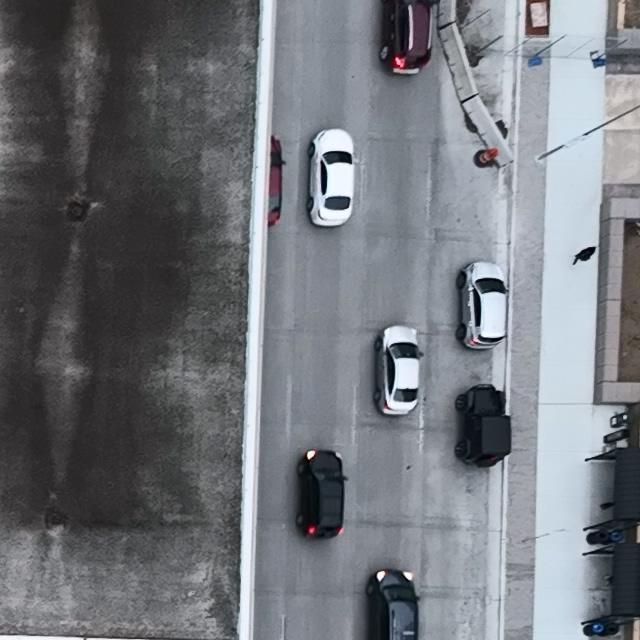car: (306, 129, 357, 228), (454, 384, 512, 468), (455, 261, 509, 350), (296, 450, 349, 540), (373, 326, 423, 418), (379, 0, 435, 76), (268, 136, 287, 227)
